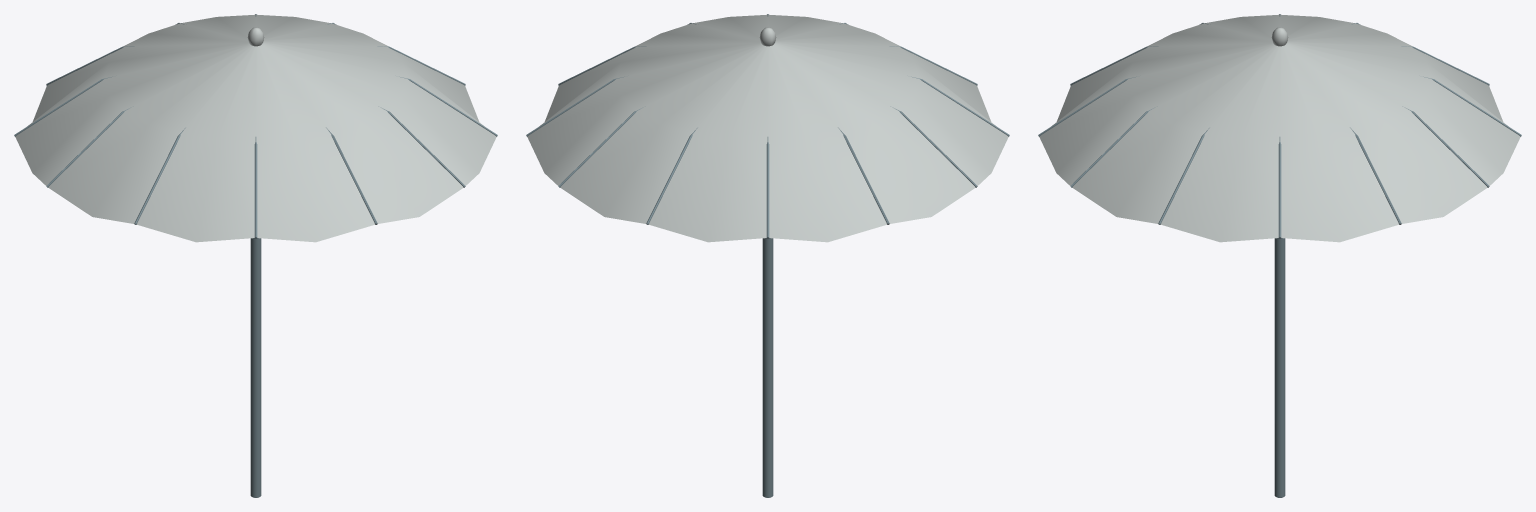
The model's file is beach-umbrella.glb.
3 renders of one model, left to right at view 1: azimuth 30°, elevation 25°; view 2: azimuth 150°, elevation 25°; view 3: azimuth 270°, elevation 25°, orthographic.
Visible parts, largest first — view 1: scalloped_canopy, pole; view 2: scalloped_canopy, pole; view 3: scalloped_canopy, pole.
Boxes of the visible parts, box(x1,y1,x2,y2) form: scalloped_canopy: box(15, 14, 496, 242); pole: box(250, 238, 261, 497); scalloped_canopy: box(527, 14, 1008, 242); pole: box(762, 238, 773, 497); scalloped_canopy: box(1039, 14, 1520, 242); pole: box(1274, 238, 1285, 497).
Bounding box in the file's own units: 2.05 × 2.19 × 2.05.
